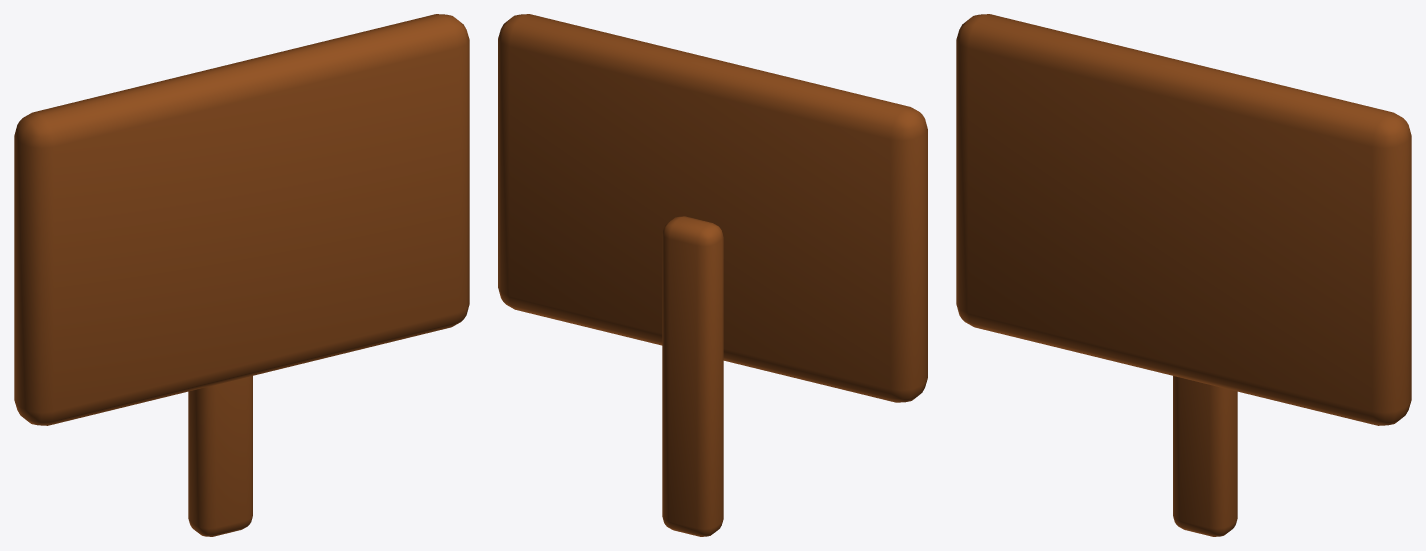
File: board (1).fbx
3 renders of one model, left to right at view 1: azimuth 30°, elevation 25°; view 2: azimuth 150°, elevation 25°; view 3: azimuth 330°, elevation 25°, orthographic. The views are drawn at different scales.
Parts seen in each view (by area): view 1: Cube.001; view 2: Cube.001; view 3: Cube.001.
Part boxes in pixels (left/top/right/bottom): Cube.001: left=14, top=14, right=469, bottom=536; Cube.001: left=498, top=14, right=927, bottom=536; Cube.001: left=956, top=14, right=1411, bottom=536.
Size of the model in its own units: 1105 by 1138 by 194.
